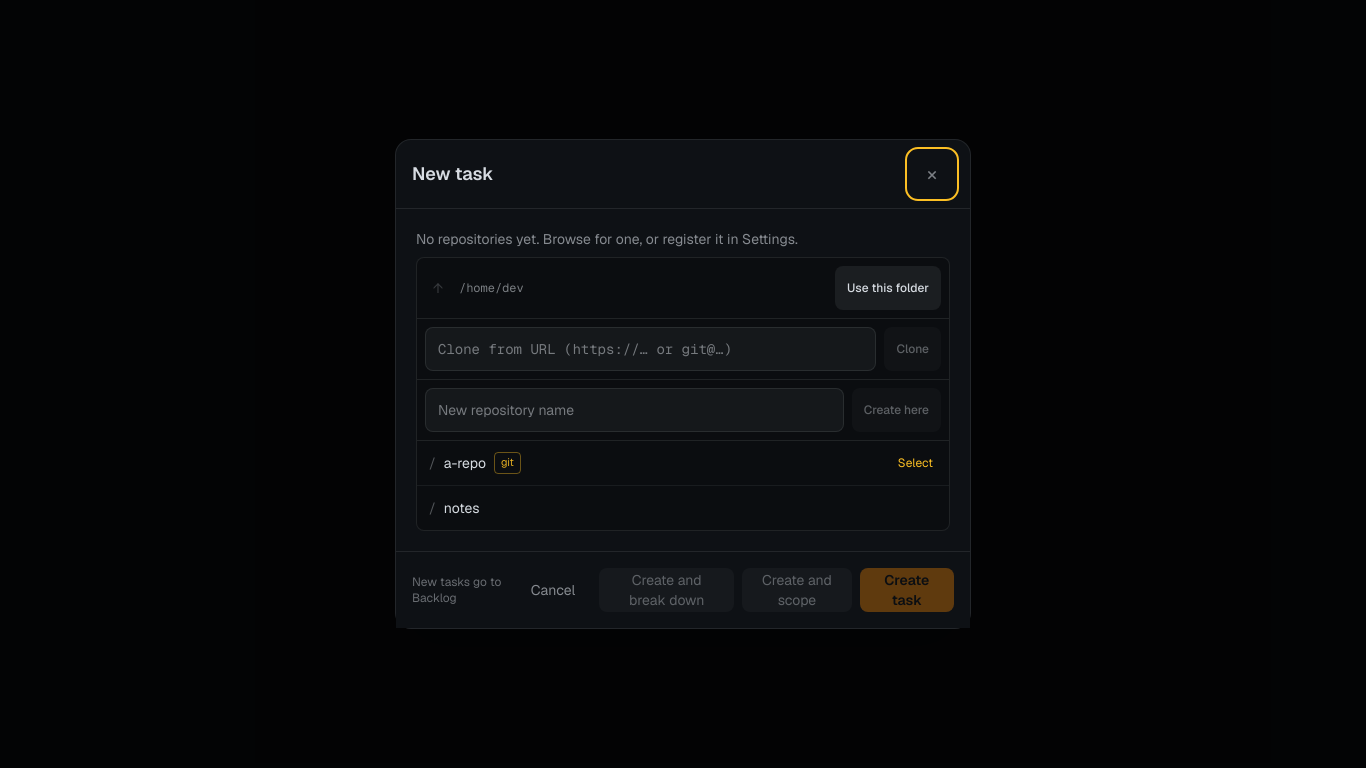
NewTaskDialog › creates a fresh repository inside the browsed folder and selects it
Expected: the list named "Folders" is shown, [417,441,949,530]
Type "fresh-project" into the field labelled "New repository name" at (634, 410), box [425,388,844,432]
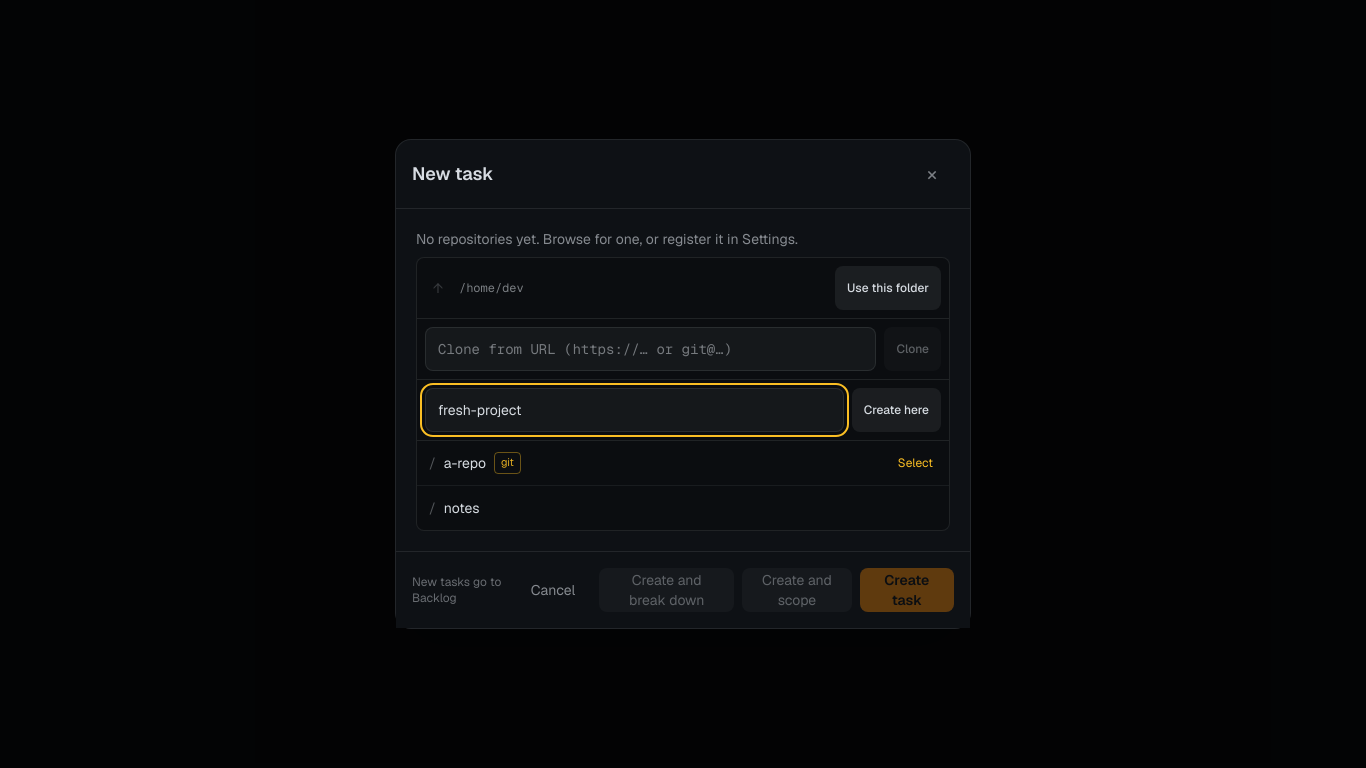
Click the button "Create here" at (896, 410), box [852,388,941,432]
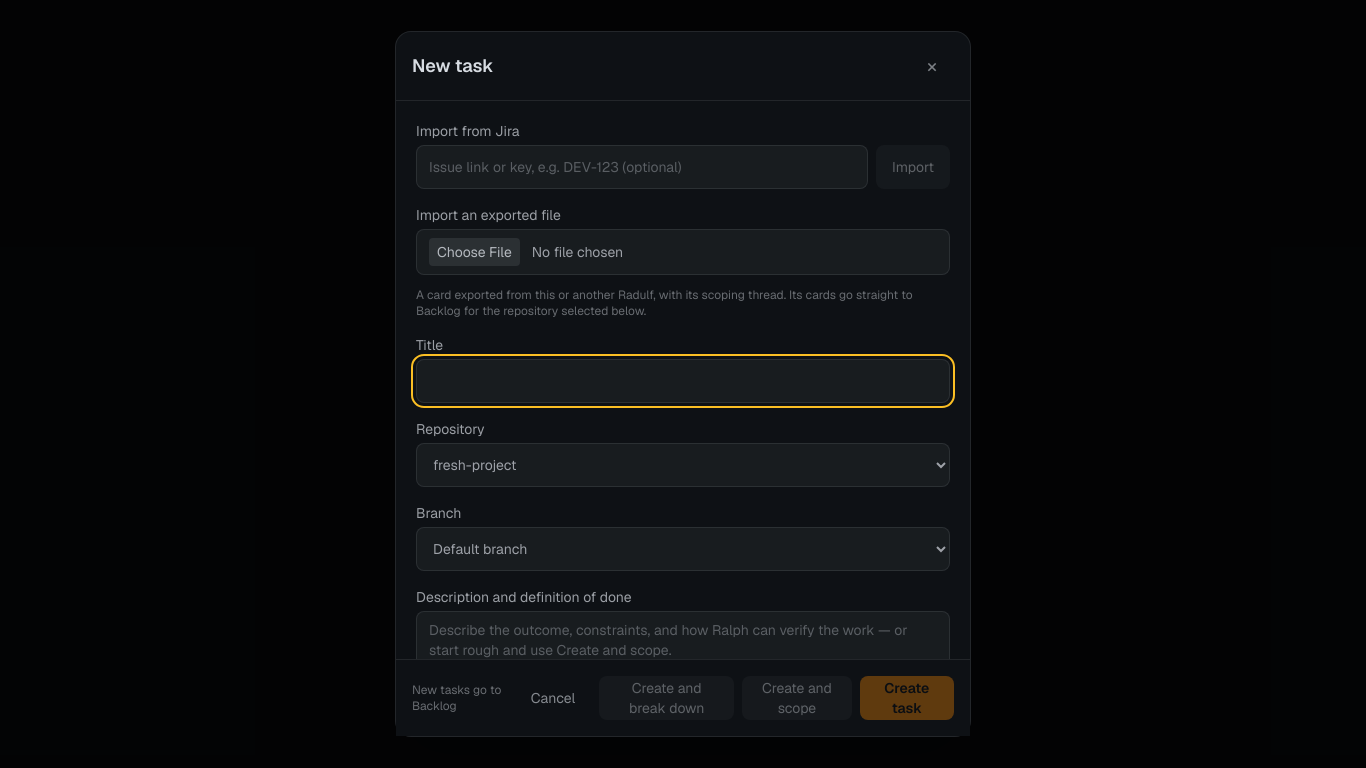
Expected: the dropdown labelled "Repository" shows "fresh-project", [416,443,950,487]
